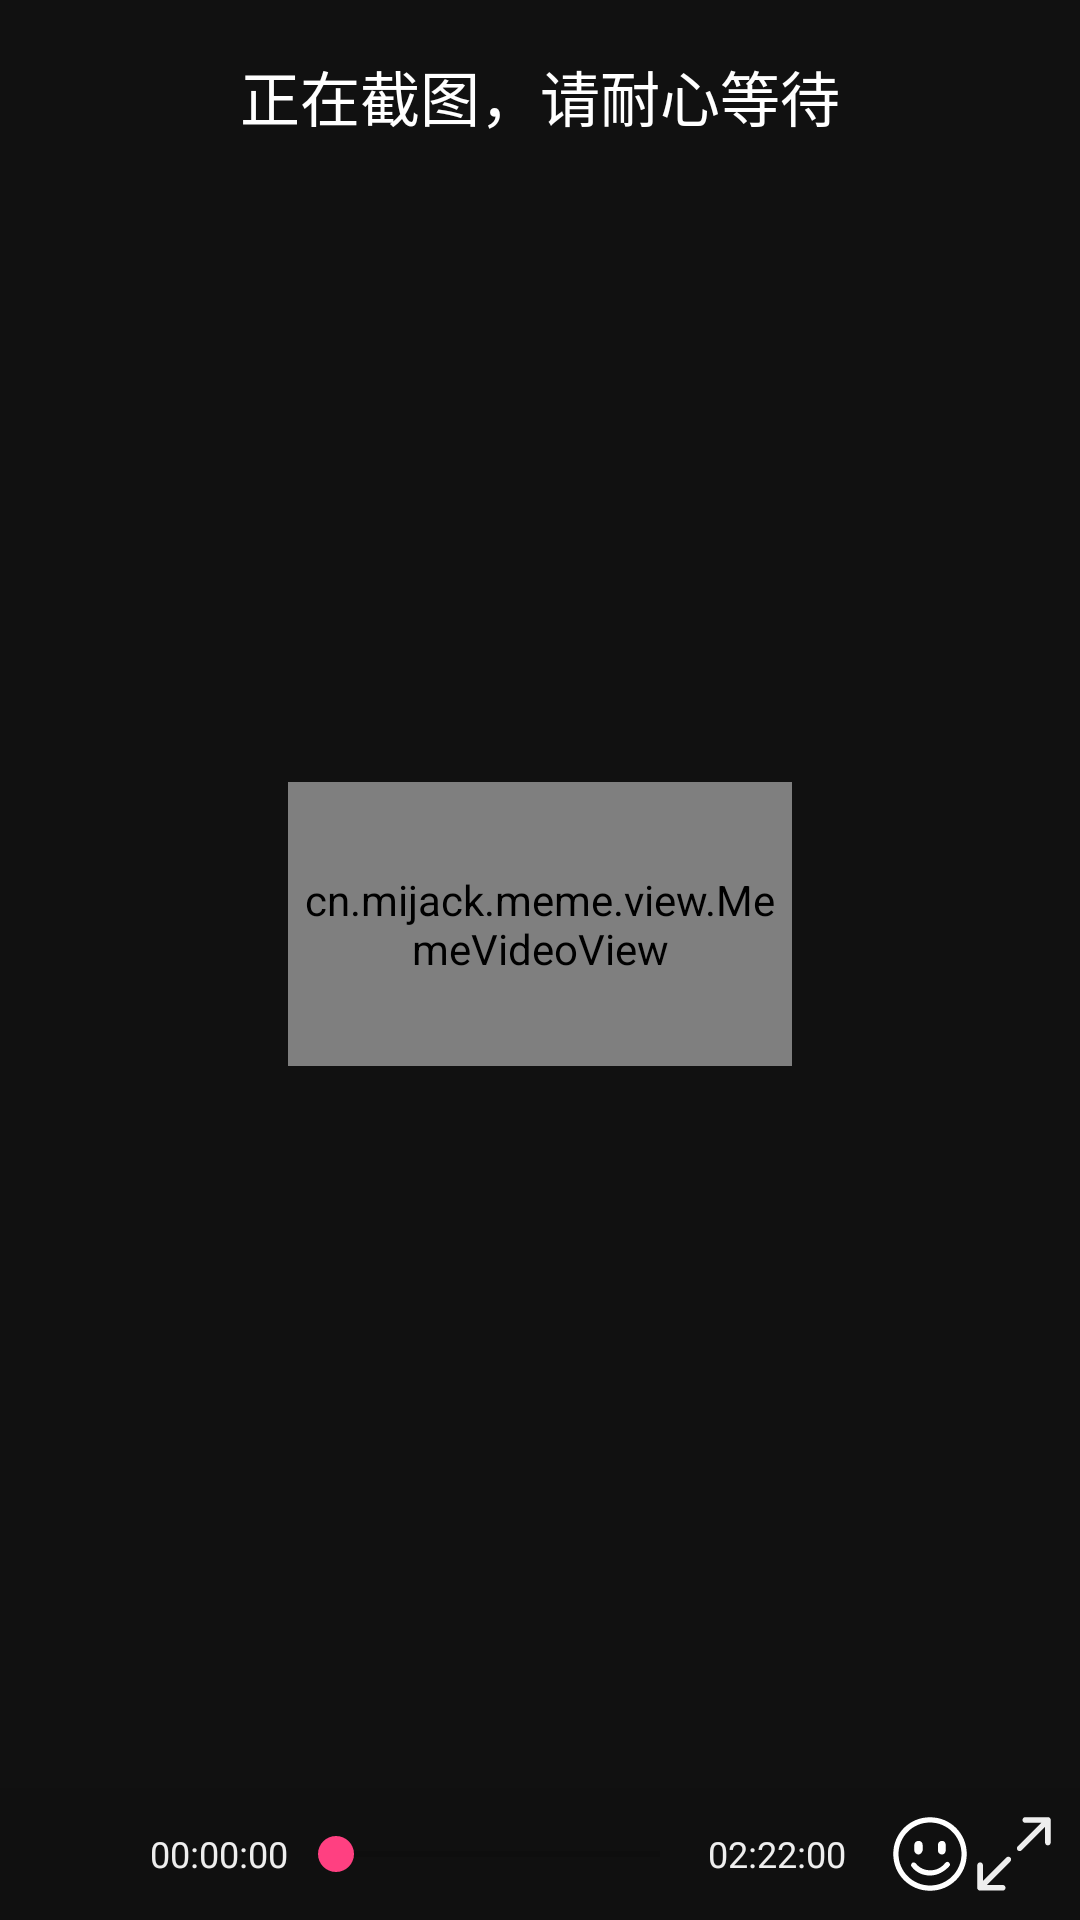

Screen size 1080 x 1920. Icon name, then its box in pixels as (x1, y1, x2, y2):
emoji: (893, 1817, 967, 1891)
fullscreen: (977, 1817, 1051, 1891)
